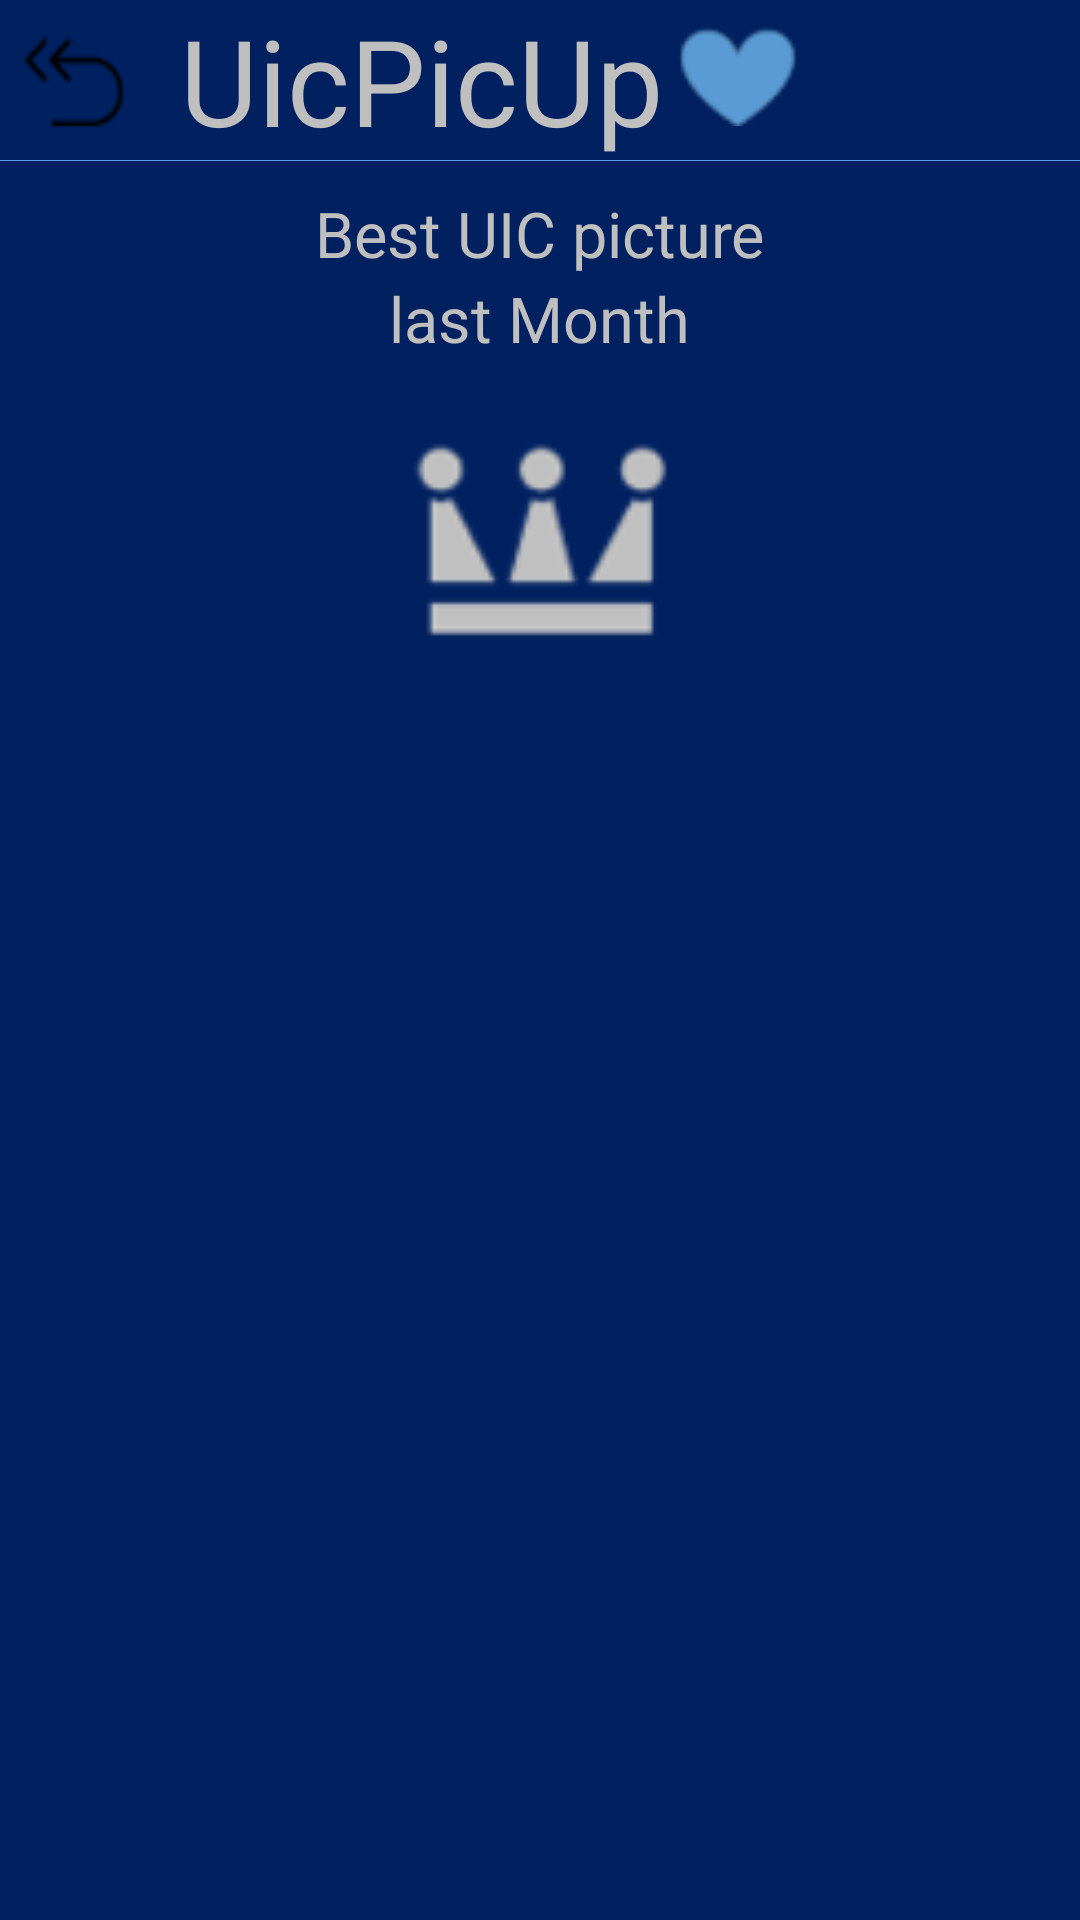

Point at icon controls on the screen. Image size 1080*1920, points as point (x, y).
back: point (73, 82)
king: point (542, 540)
love: point (738, 77)
